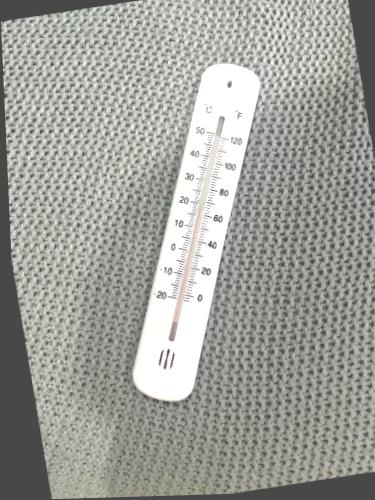thermo: (128, 57, 270, 400)
